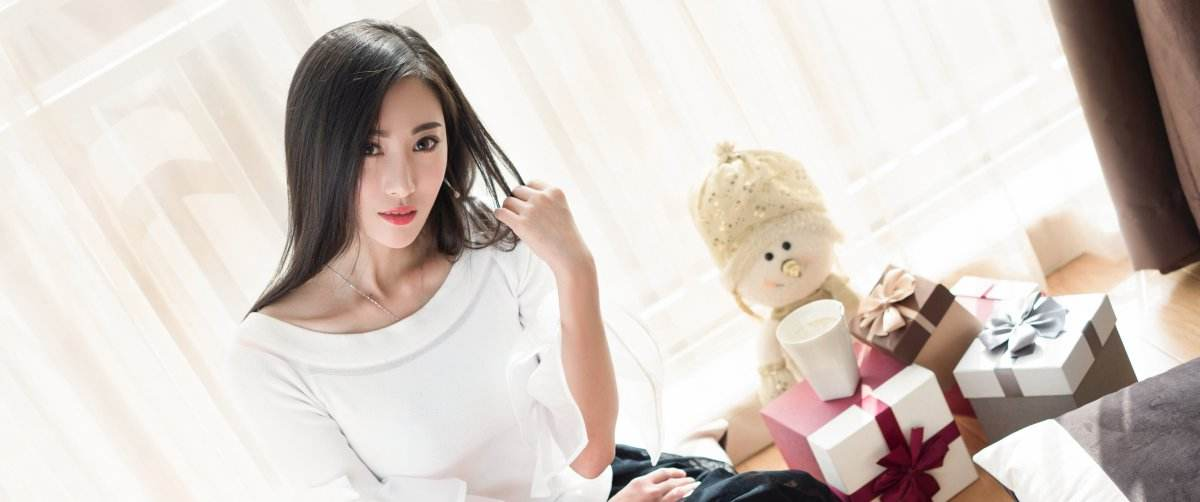person: (202, 16, 675, 502)
